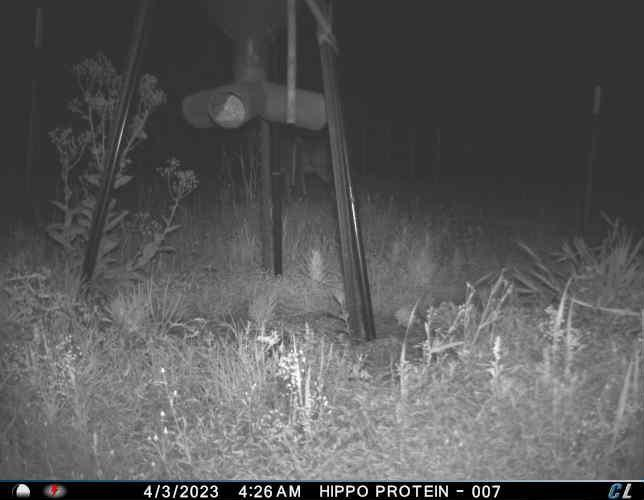Deer: (290, 135, 339, 203)
